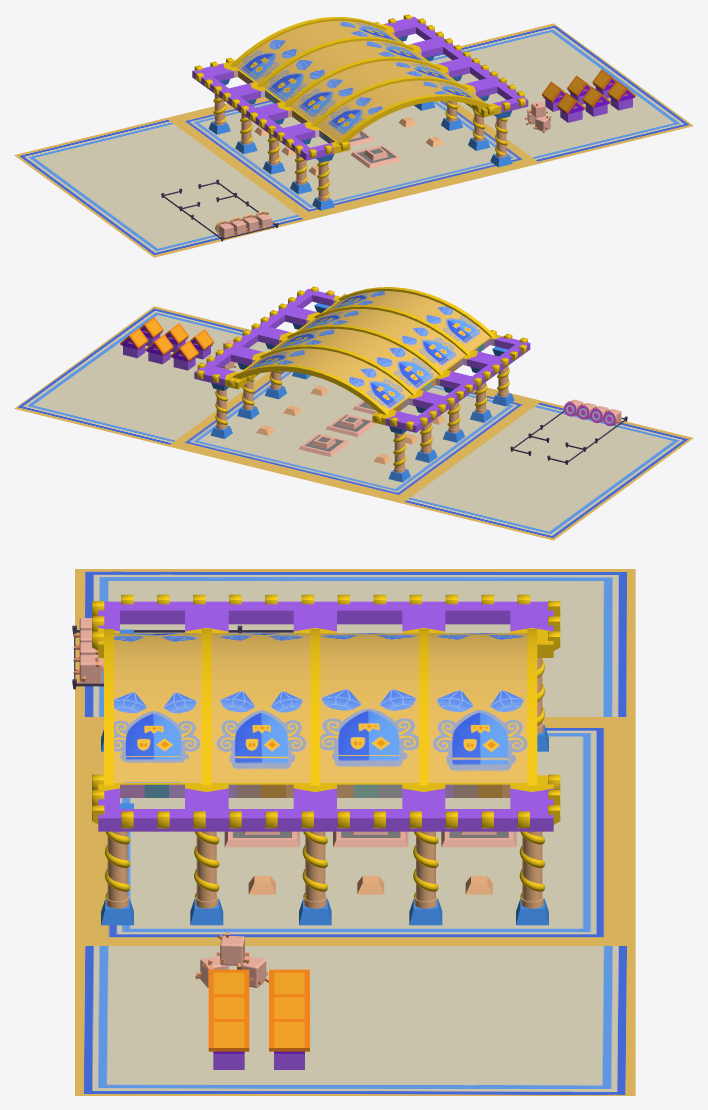
Rendered from CastleZone.fbx.
3 views of the same model, one above another, from view 1: azimuth 30°, elevation 25°; view 2: azimuth 150°, elevation 25°; view 3: azimuth 270°, elevation 25° (orthographic). The views are drawn at different scales.
Parts seen in each view (by area): view 1: GroundSideRight, BigStructure, PalaceGround, GroundSideLeft, TransparentRoof, SideLeft, SideRight, Fountains, statues_abstract; view 2: GroundSideRight, PalaceGround, BigStructure, GroundSideLeft, TransparentRoof, SideLeft, SideRight, Fountains, statues_abstract, Water; view 3: GroundSideLeft, PalaceGround, TransparentRoof, BigStructure, GroundSideRight, SideLeft, Fountains, SideRight, statues_abstract, Water.
Part boxes in pixels (box(x1,y1,x2,y2)): GroundSideRight: box(14, 118, 305, 257); BigStructure: box(192, 14, 528, 210); PalaceGround: box(166, 97, 539, 220); GroundSideLeft: box(429, 23, 693, 163); TransparentRoof: box(235, 21, 480, 141); SideLeft: box(524, 69, 635, 132); SideRight: box(161, 179, 278, 241); Fountains: box(349, 130, 401, 168); statues_abstract: box(254, 117, 443, 175); GroundSideRight: box(402, 401, 693, 540); PalaceGround: box(168, 371, 541, 503); BigStructure: box(194, 286, 530, 482); GroundSideLeft: box(14, 306, 270, 446); TransparentRoof: box(244, 291, 489, 411); SideLeft: box(120, 317, 237, 370); SideRight: box(510, 399, 627, 464); Fountains: box(298, 400, 376, 456); statues_abstract: box(256, 385, 445, 464); Water: box(305, 402, 374, 451); GroundSideLeft: box(75, 946, 635, 1095); PalaceGround: box(75, 717, 635, 945); TransparentRoof: box(114, 633, 527, 782); BigStructure: box(92, 594, 560, 925); GroundSideRight: box(75, 569, 635, 716); SideLeft: box(195, 932, 309, 1069); Fountains: box(224, 831, 516, 847); SideRight: box(72, 618, 293, 689); statues_abstract: box(248, 876, 492, 894); Water: box(233, 831, 508, 837).
Bounding box in the file's own units: 8365 × 1297 × 3781.
